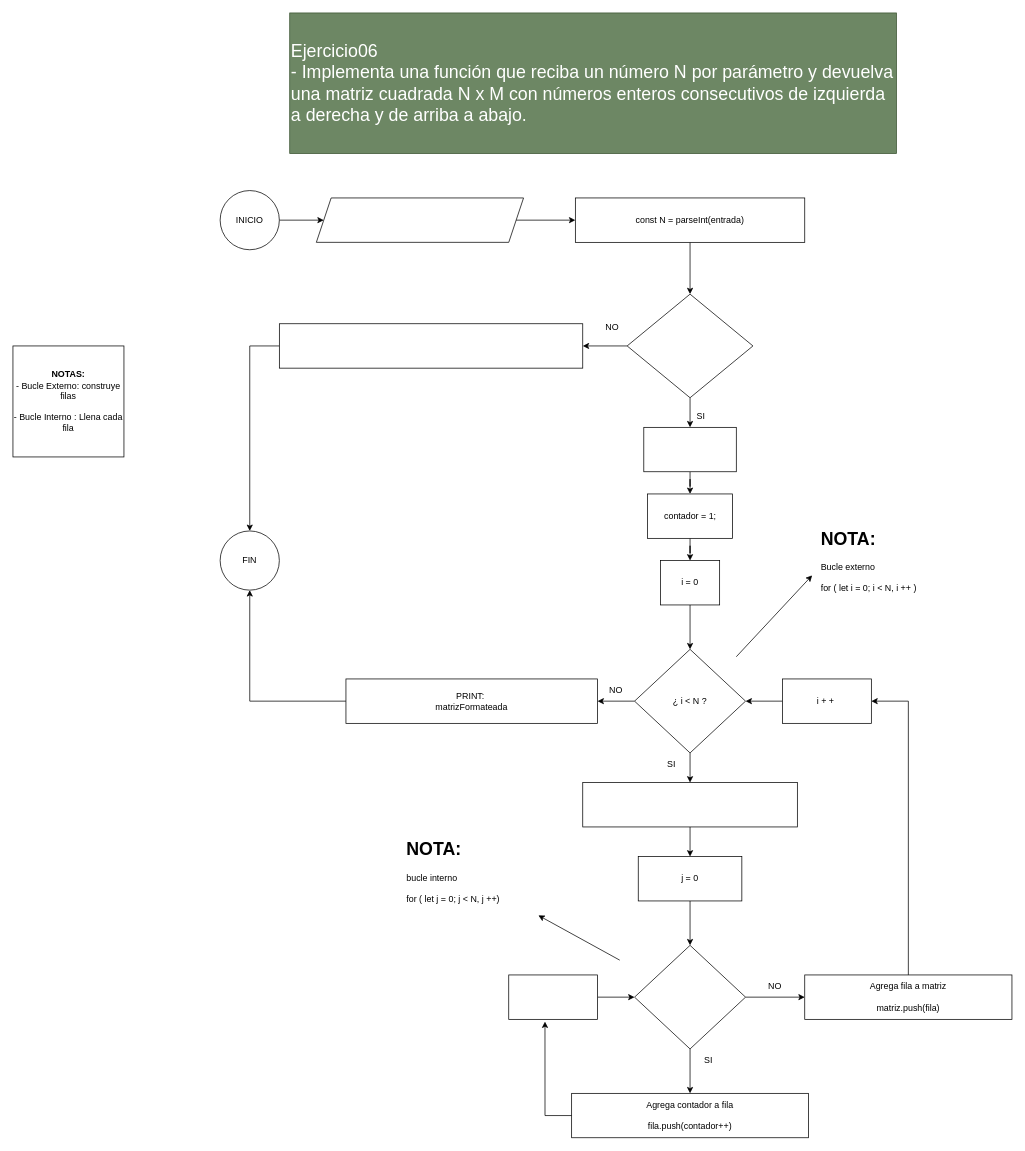
Some shapes in this 1025 by 1151 pixel diagram are drawn without their labels. Here are the shapes that lost their labels. From the top down, the centre of each, then its label:
point (420, 219): Introducir tamaño de la matriz cuadrada
point (431, 345): PRINT: " Ingresa número entero positivo, válido "
point (689, 345): ¿ N es número y mayor que 0 ?
point (689, 449): const matriz = [ ];
point (689, 804): Crea Fila vacia fila = [ ];
point (553, 996): j + +
point (690, 997): ¿j < N?
